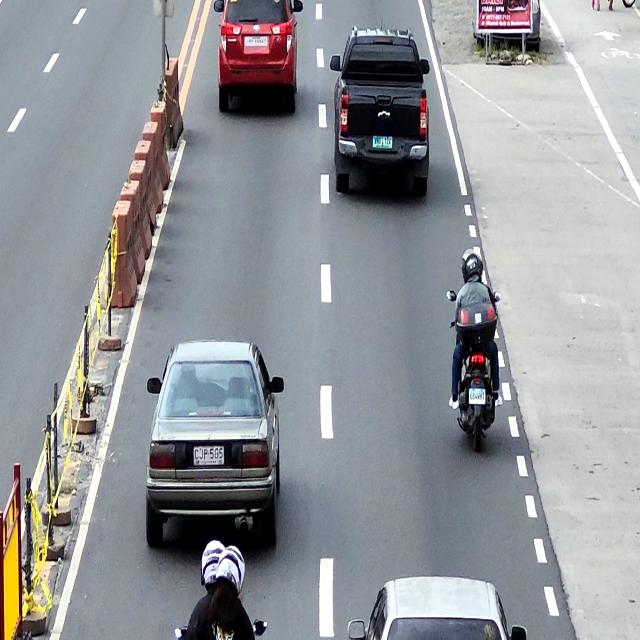Car: (146, 339, 284, 552), (329, 26, 431, 203), (347, 571, 527, 640), (213, 0, 304, 117)
License-Plate: (193, 445, 224, 467), (468, 387, 486, 404), (372, 135, 393, 149), (248, 35, 264, 47)
Motorcycle: (446, 288, 502, 451)
